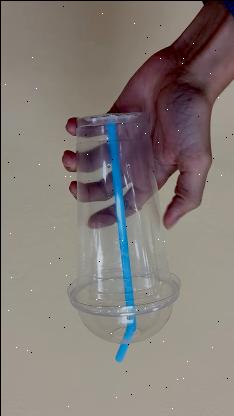Others: (66, 110, 180, 362)
